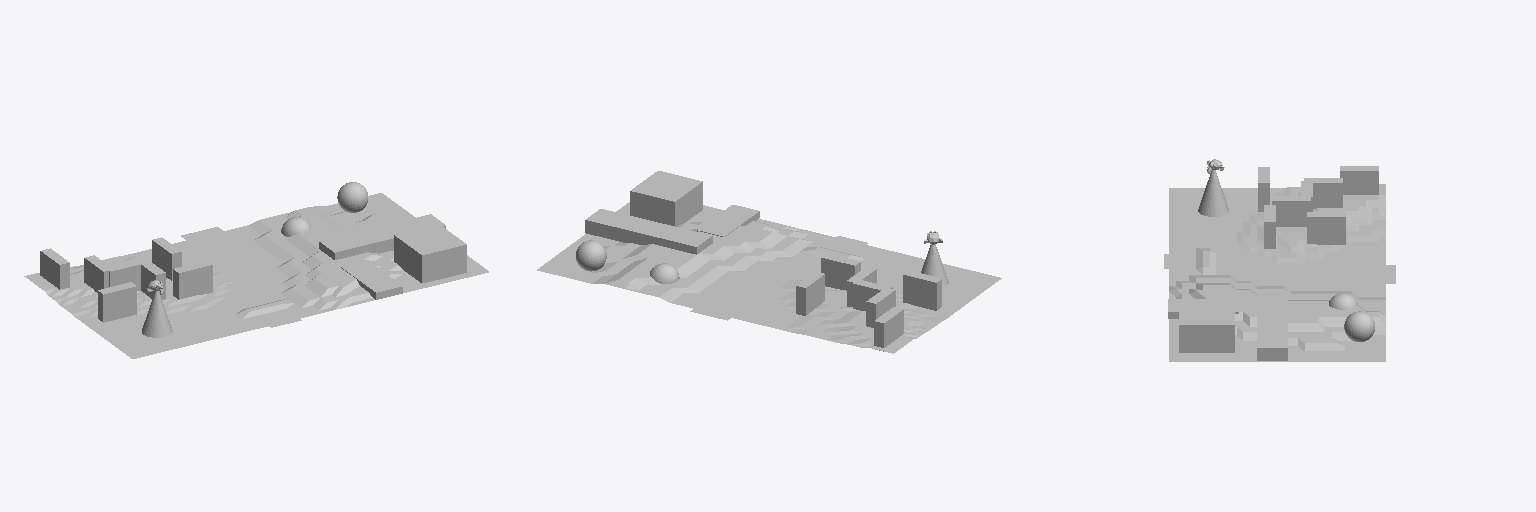
Rendered from riviere_Scene.obj.
3 renders of one model, left to right at view 1: azimuth 30°, elevation 25°; view 2: azimuth 150°, elevation 25°; view 3: azimuth 270°, elevation 25°, orthographic.
Parts seen in each view (by area): view 1: Plane_Sol, Cube.006_Cube.003, Plane.004_Plane.003, Cube_Cube.001, Cube.013_Cube.010, Cube.011_Cube.008, Cube.001_Cube.002, Cube.007_Cube.004, Cone, Plane.003_Plane.002, Cube.010_Cube.007, Sphere (+3 smaller); view 2: Plane_Sol, Cube.006_Cube.003, Cube_Cube.001, Plane.004_Plane.003, Cube.013_Cube.010, Cube.001_Cube.002, Cube.011_Cube.008, Cube.010_Cube.007, Cube.007_Cube.004, Sphere, Plane.003_Plane.002, Cube.008_Cube.005 (+2 smaller); view 3: Plane_Sol, Cube.006_Cube.003, Plane.004_Plane.003, Cube_Cube.001, Cube.010_Cube.007, Cube.007_Cube.004, Cube.009_Cube.006, Cube.008_Cube.005, Cone, Plane.003_Plane.002, Sphere, Cube.011_Cube.008.
Boxes of the visible parts, <box> form: Plane_Sol: <box>24,193,488,358</box>; Cube.006_Cube.003: <box>394,224,466,283</box>; Plane.004_Plane.003: <box>181,227,278,280</box>; Cube_Cube.001: <box>319,214,445,259</box>; Cube.013_Cube.010: <box>98,282,136,322</box>; Cube.011_Cube.008: <box>173,261,212,299</box>; Cube.001_Cube.002: <box>341,261,402,299</box>; Cube.007_Cube.004: <box>40,248,69,289</box>; Cone: <box>142,291,172,337</box>; Plane.003_Plane.002: <box>225,277,282,304</box>; Cube.010_Cube.007: <box>152,237,181,280</box>; Sphere: <box>337,182,367,212</box>; Plane_Sol: <box>537,202,1001,353</box>; Cube.006_Cube.003: <box>630,171,702,226</box>; Cube_Cube.001: <box>585,209,712,254</box>; Plane.004_Plane.003: <box>690,267,787,320</box>; Cube.013_Cube.010: <box>903,270,941,310</box>; Cube.001_Cube.002: <box>697,205,759,236</box>; Cube.011_Cube.008: <box>821,253,860,290</box>; Cube.010_Cube.007: <box>796,271,824,315</box>; Cube.007_Cube.004: <box>874,307,903,351</box>; Sphere: <box>576,240,606,271</box>; Plane.003_Plane.002: <box>775,252,821,278</box>; Cube.008_Cube.005: <box>866,288,895,327</box>; Plane_Sol: <box>1169,184,1385,361</box>; Cube.006_Cube.003: <box>1179,303,1234,352</box>; Plane.004_Plane.003: <box>1273,265,1395,283</box>; Cube_Cube.001: <box>1257,293,1287,360</box>; Cube.010_Cube.007: <box>1307,212,1345,244</box>; Cube.007_Cube.004: <box>1340,166,1378,194</box>; Cube.009_Cube.006: <box>1272,196,1310,226</box>; Cube.008_Cube.005: <box>1304,178,1342,208</box>; Cone: <box>1198,170,1228,216</box>; Plane.003_Plane.002: <box>1218,257,1272,271</box>; Sphere: <box>1344,311,1374,341</box>; Cube.011_Cube.008: <box>1264,205,1275,248</box>.
Bounding box in the file's own units: 26.5 × 4.46 × 14.89.